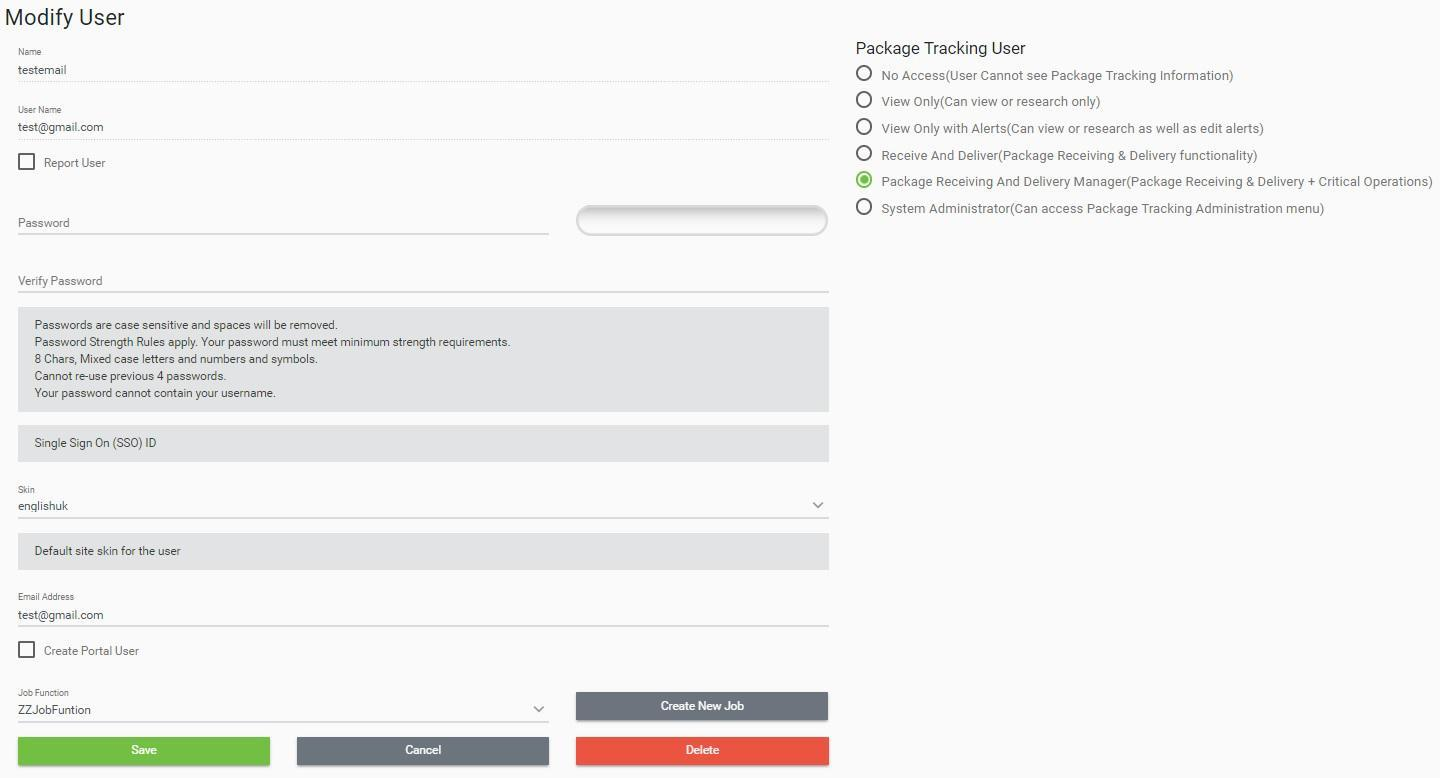button: (577, 738, 831, 768), (575, 694, 830, 723), (19, 738, 273, 767), (298, 739, 551, 766)
checkbox: (18, 641, 36, 660), (19, 154, 37, 171)
label: (879, 174, 1436, 193), (880, 201, 1329, 218), (880, 147, 1263, 166), (881, 68, 1239, 87), (883, 121, 1270, 138), (882, 93, 1102, 112), (849, 40, 1026, 58), (3, 7, 125, 28), (44, 643, 141, 659), (45, 154, 107, 174), (18, 590, 81, 605), (17, 685, 76, 701), (14, 102, 67, 118), (16, 48, 48, 59), (18, 485, 37, 494)
radio: (853, 198, 876, 221), (855, 169, 876, 193), (853, 90, 877, 110), (855, 65, 876, 85), (857, 142, 877, 162), (855, 118, 876, 137)
